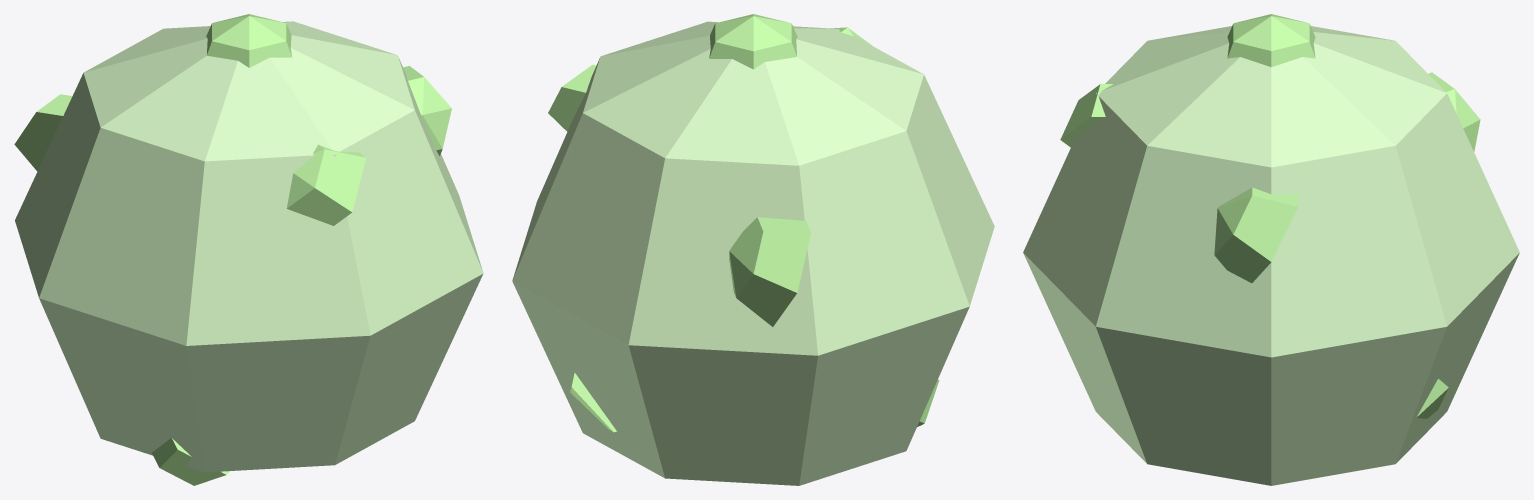
The model's file is nature_projectile.glb.
3 views of the same model, side by side, from view 1: azimuth 30°, elevation 25°; view 2: azimuth 150°, elevation 25°; view 3: azimuth 270°, elevation 25° (orthographic). The views are drawn at different scales.
Visible parts, largest first — view 1: NatureGlow, Bump_2, Bump_5, Bump_1, Bump_0, Bump_3; view 2: NatureGlow, Bump_1, Bump_5, Bump_0, Bump_4; view 3: NatureGlow, Bump_0, Bump_5, Bump_2, Bump_1, Bump_4.
Part boxes in pixels (box(x1,y1,x2,y2)): NatureGlow: box(15, 21, 483, 472); Bump_2: box(286, 144, 365, 225); Bump_5: box(206, 14, 292, 67); Bump_1: box(14, 94, 72, 171); Bump_0: box(403, 66, 451, 155); Bump_3: box(152, 438, 230, 485); NatureGlow: box(512, 21, 994, 485); Bump_1: box(729, 217, 810, 326); Bump_5: box(709, 14, 797, 69); Bump_0: box(548, 64, 596, 131); Bump_4: box(570, 373, 616, 432); NatureGlow: box(1023, 26, 1519, 485); Bump_0: box(1214, 187, 1298, 283); Bump_5: box(1227, 14, 1315, 67); Bump_2: box(1060, 84, 1113, 147); Bump_1: box(1428, 72, 1480, 151); Bump_4: box(1416, 378, 1448, 418).
Size of the model in its own units: 0.2 by 0.205 by 0.2.
